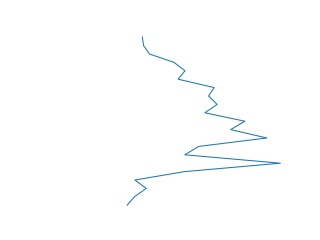floodSwamp: (123, 35, 284, 209)
